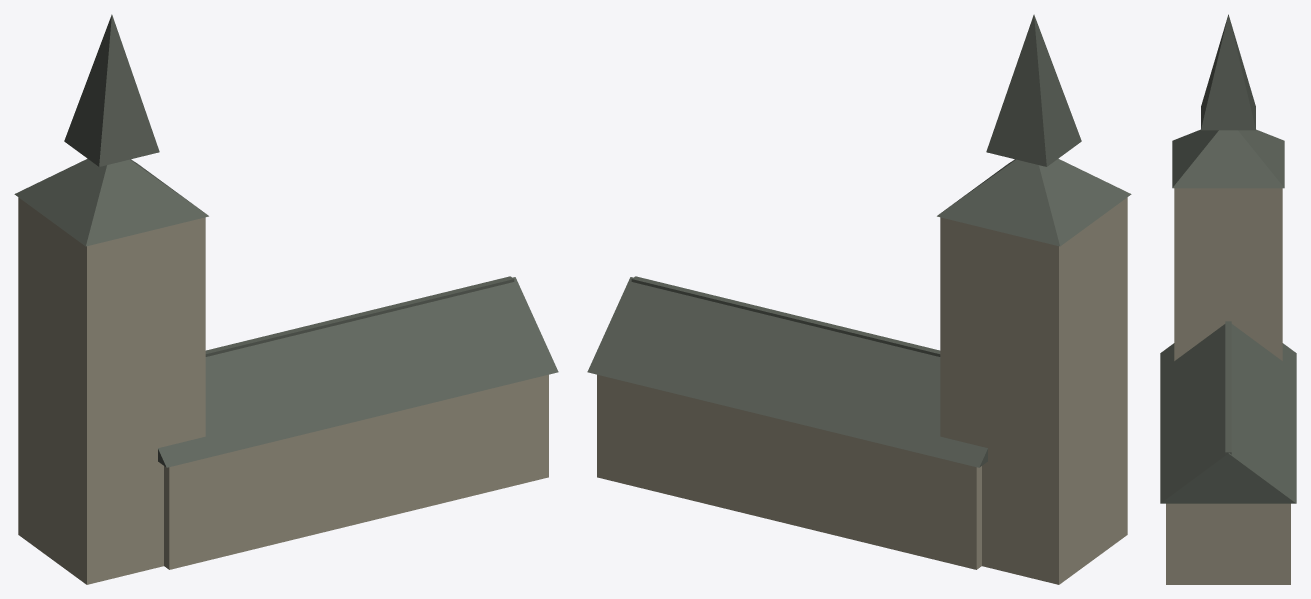
File: church_tower.glb
3 views of the same model, side by side, from view 1: azimuth 30°, elevation 25°; view 2: azimuth 150°, elevation 25°; view 3: azimuth 270°, elevation 25° (orthographic). The views are drawn at different scales.
Visible parts, largest first — view 1: church_tower; view 2: church_tower; view 3: church_tower.
Boxes of the visible parts, x1=… form: church_tower: x1=14, y1=14, x2=558, y2=584; church_tower: x1=587, y1=14, x2=1131, y2=584; church_tower: x1=1160, y1=14, x2=1296, y2=584.
Size of the model in its own units: 22 by 24 by 7.07.
